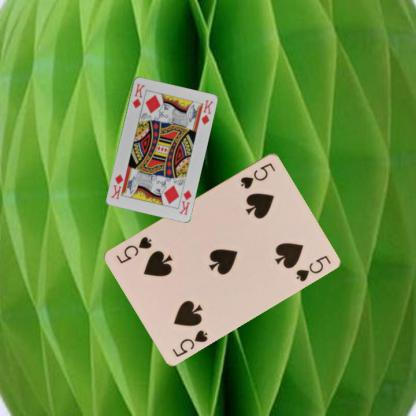5s: (169, 326, 209, 358), (237, 160, 277, 191)
Kd: (176, 187, 193, 216), (130, 81, 146, 109)
